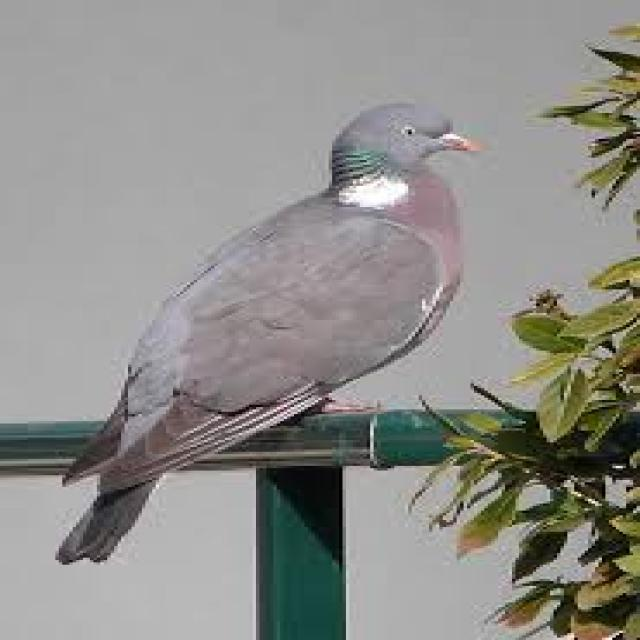pigeon: (72, 79, 495, 572)
